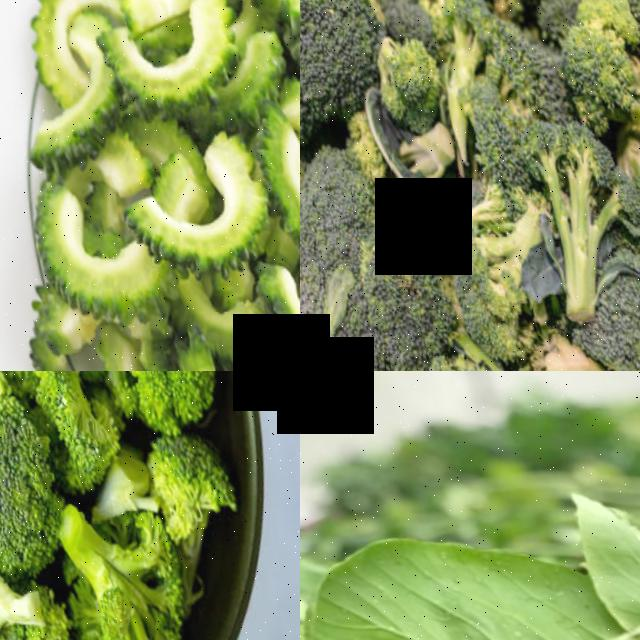bitter gourd: (41, 0, 300, 371)
bok choy: (300, 476, 640, 640)
broccoli: (300, 148, 432, 371), (43, 484, 203, 640), (523, 107, 627, 311), (434, 163, 532, 365), (0, 371, 69, 599), (357, 20, 457, 134), (548, 0, 637, 125), (300, 0, 372, 154), (84, 371, 226, 432), (523, 337, 640, 371), (0, 610, 83, 640)
